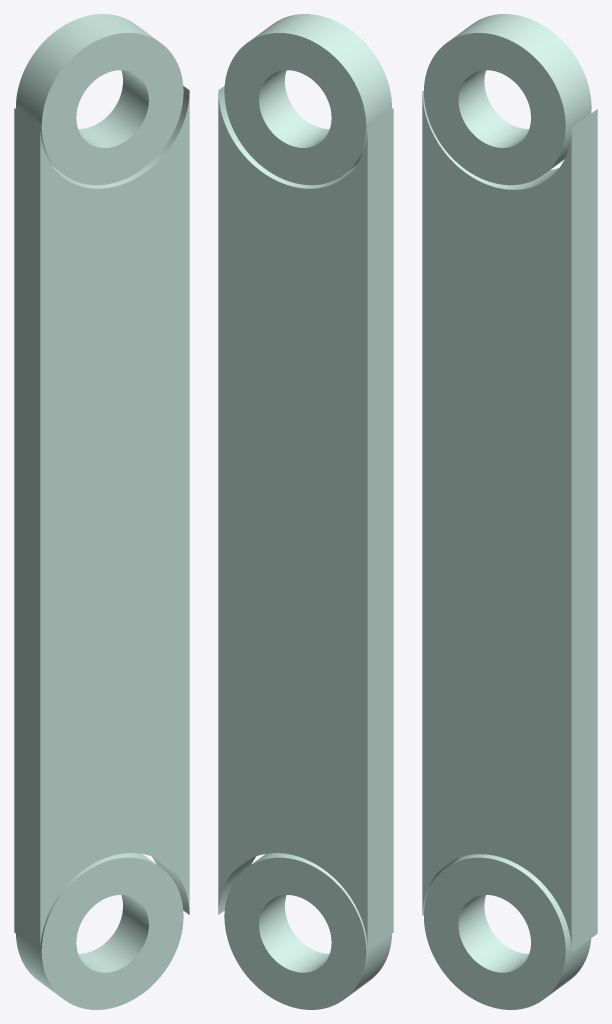
3 renders of one model, left to right at view 1: azimuth 30°, elevation 25°; view 2: azimuth 150°, elevation 25°; view 3: azimuth 330°, elevation 25°, orthographic.
Parts seen in each view (by area): view 1: Renderer Node; view 2: Renderer Node; view 3: Renderer Node.
Part boxes in pixels (left/top/right/bottom): Renderer Node: left=14, top=14, right=189, bottom=1009; Renderer Node: left=218, top=14, right=393, bottom=1009; Renderer Node: left=422, top=14, right=597, bottom=1009.
Size of the model in its own units: 0.1303 by 0.8112 by 0.0391.
